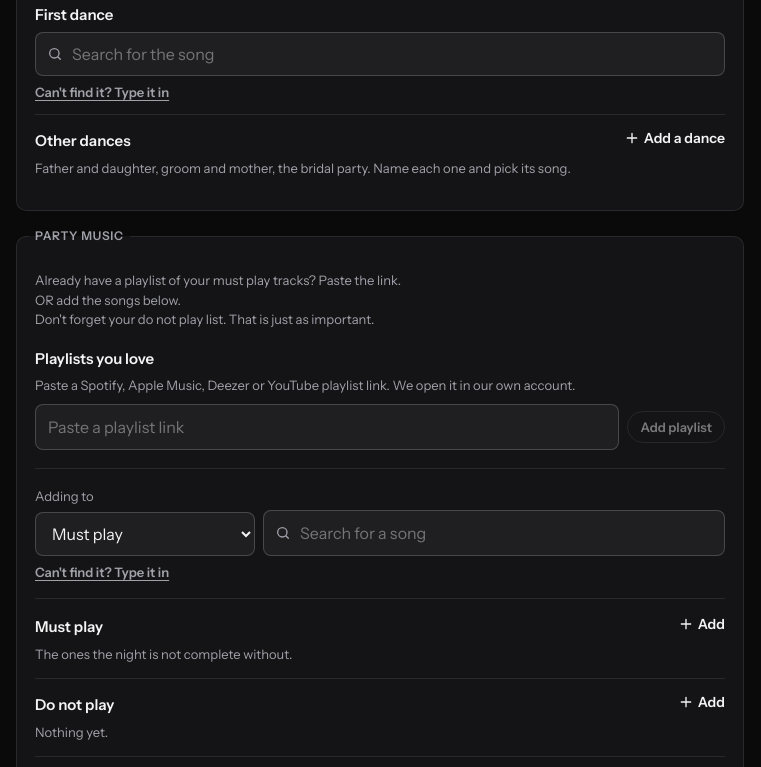
Test: an unsupported playlist link is explained and a duplicate is refused
(page scrolled)
Expected: the search field labelled "Search for a song" is shown, [263,510,725,556]
In the field named "Playlist link to add": (327, 427) [35,404,620,450], type "https://tidal.com/playlist/x"
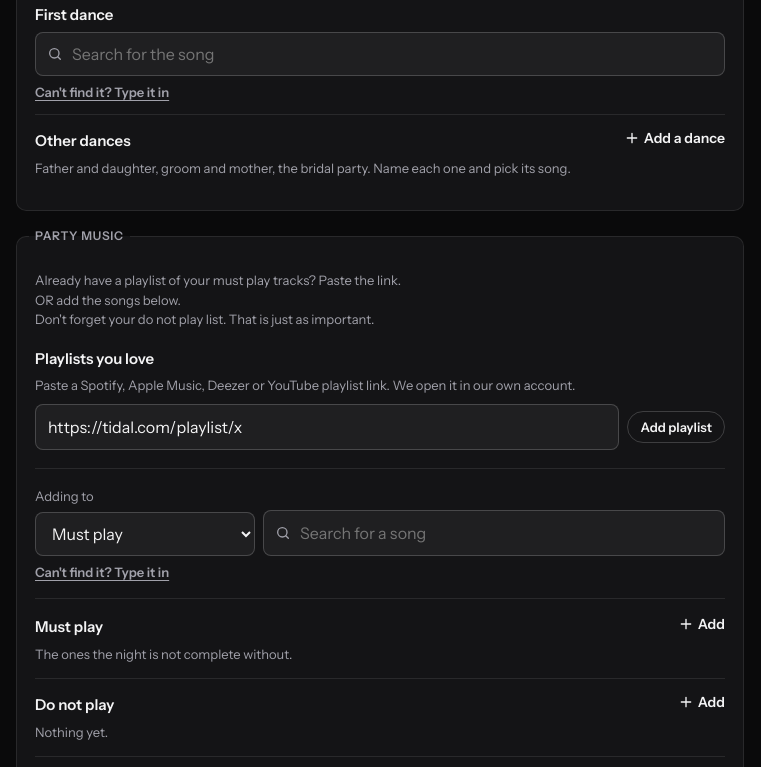
Click the button "Add playlist": (676, 427) [628,411,725,443]
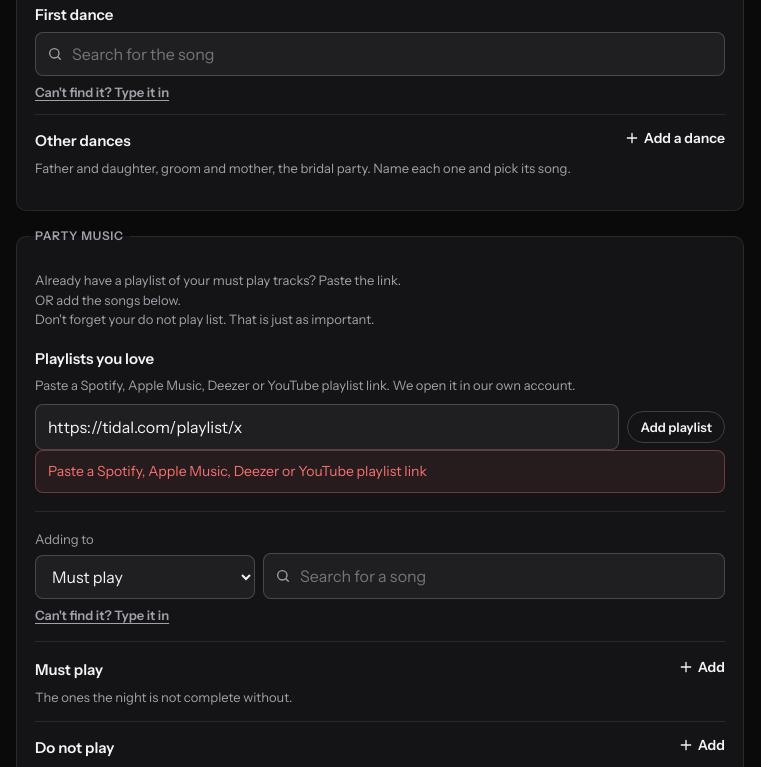
Expected: the message reads "Paste a Spotify, Apple Music, Deezer or YouTube playlist link", [48,462,427,480]
Replace the text in the field named "Playlist link to add" with "https://open.spotify.com/playlist/37i9dQZF1DXcBWIGoYBM5M": (327, 427) [35,404,620,450]
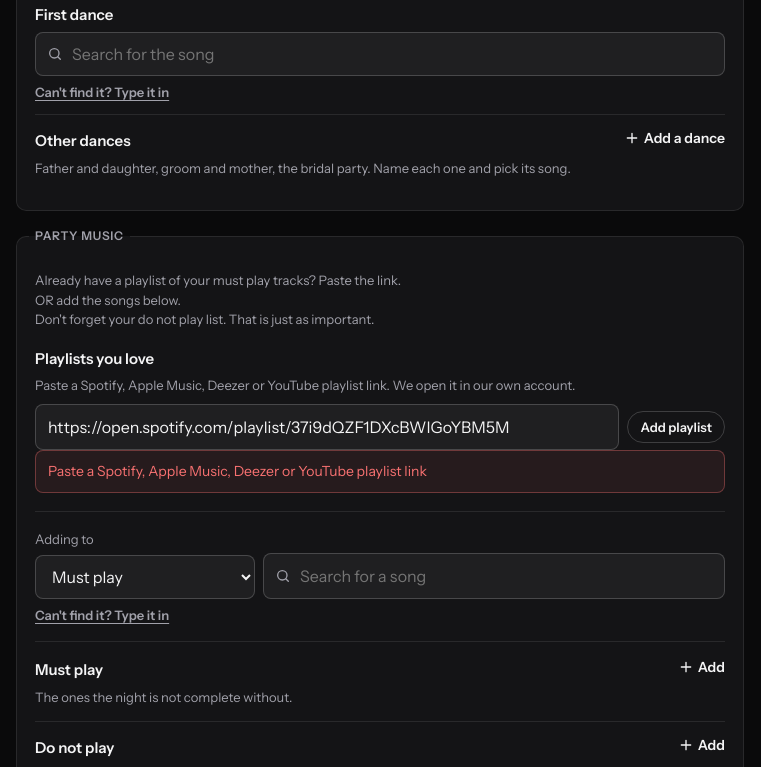
Click the button "Add playlist": (676, 427) [628,411,725,443]
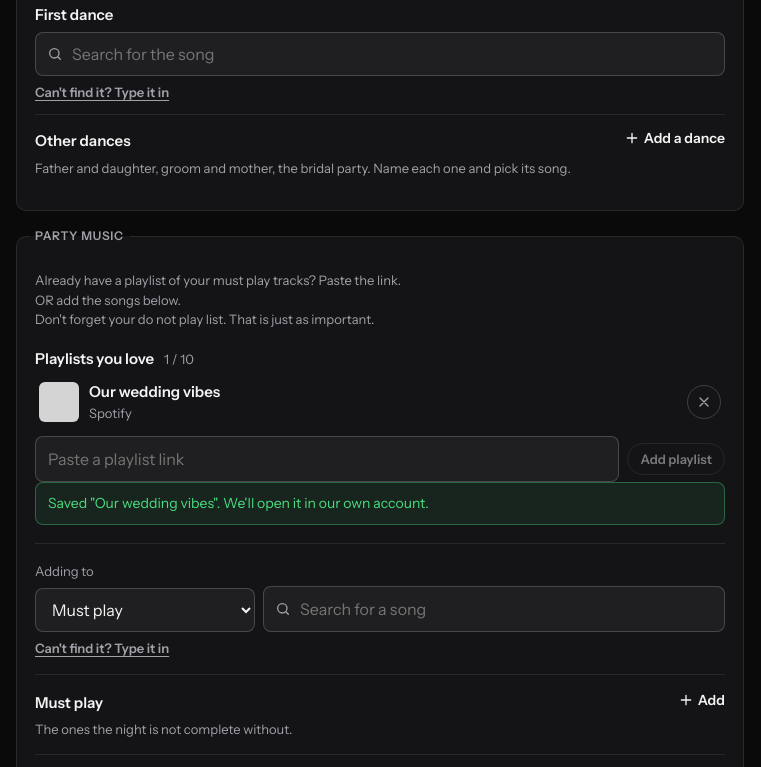
Expected: the link "Our wedding vibes" is shown, [89,382,220,401]
In the field named "Playlist link to add": (327, 459) [35,436,620,482], type "https://open.spotify.com/playlist/37i9dQZF1DXcBWIGoYBM5M?si=again"
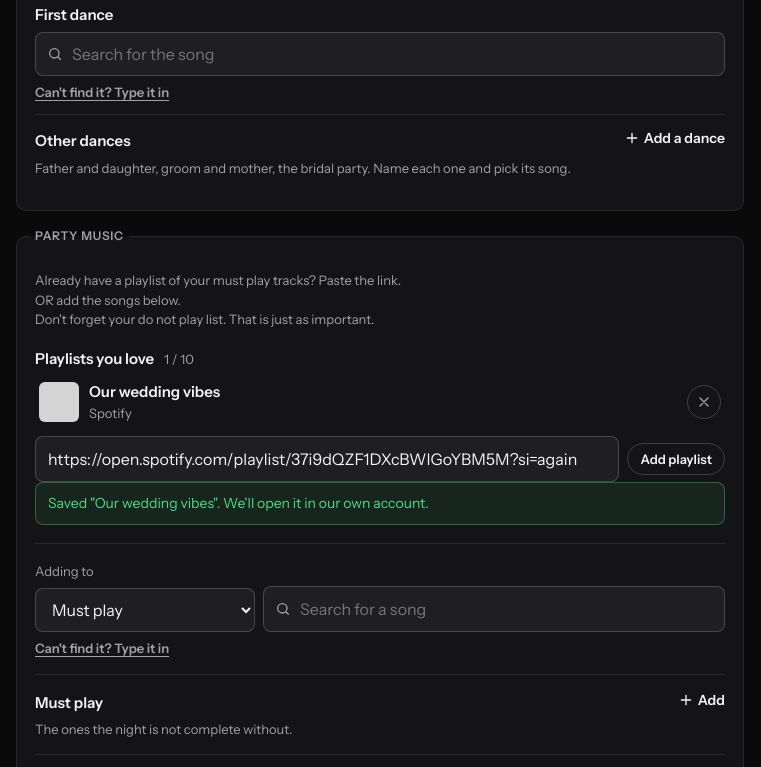
Click the button "Add playlist": (676, 459) [628,443,725,475]
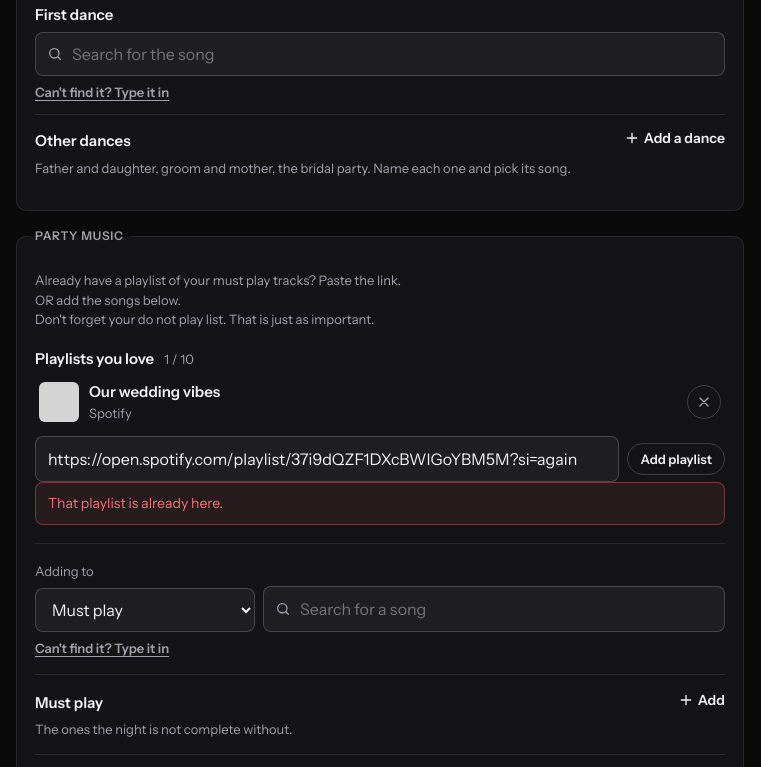
Expected: the message reads "That playlist is already here.", [48,494,223,512]
